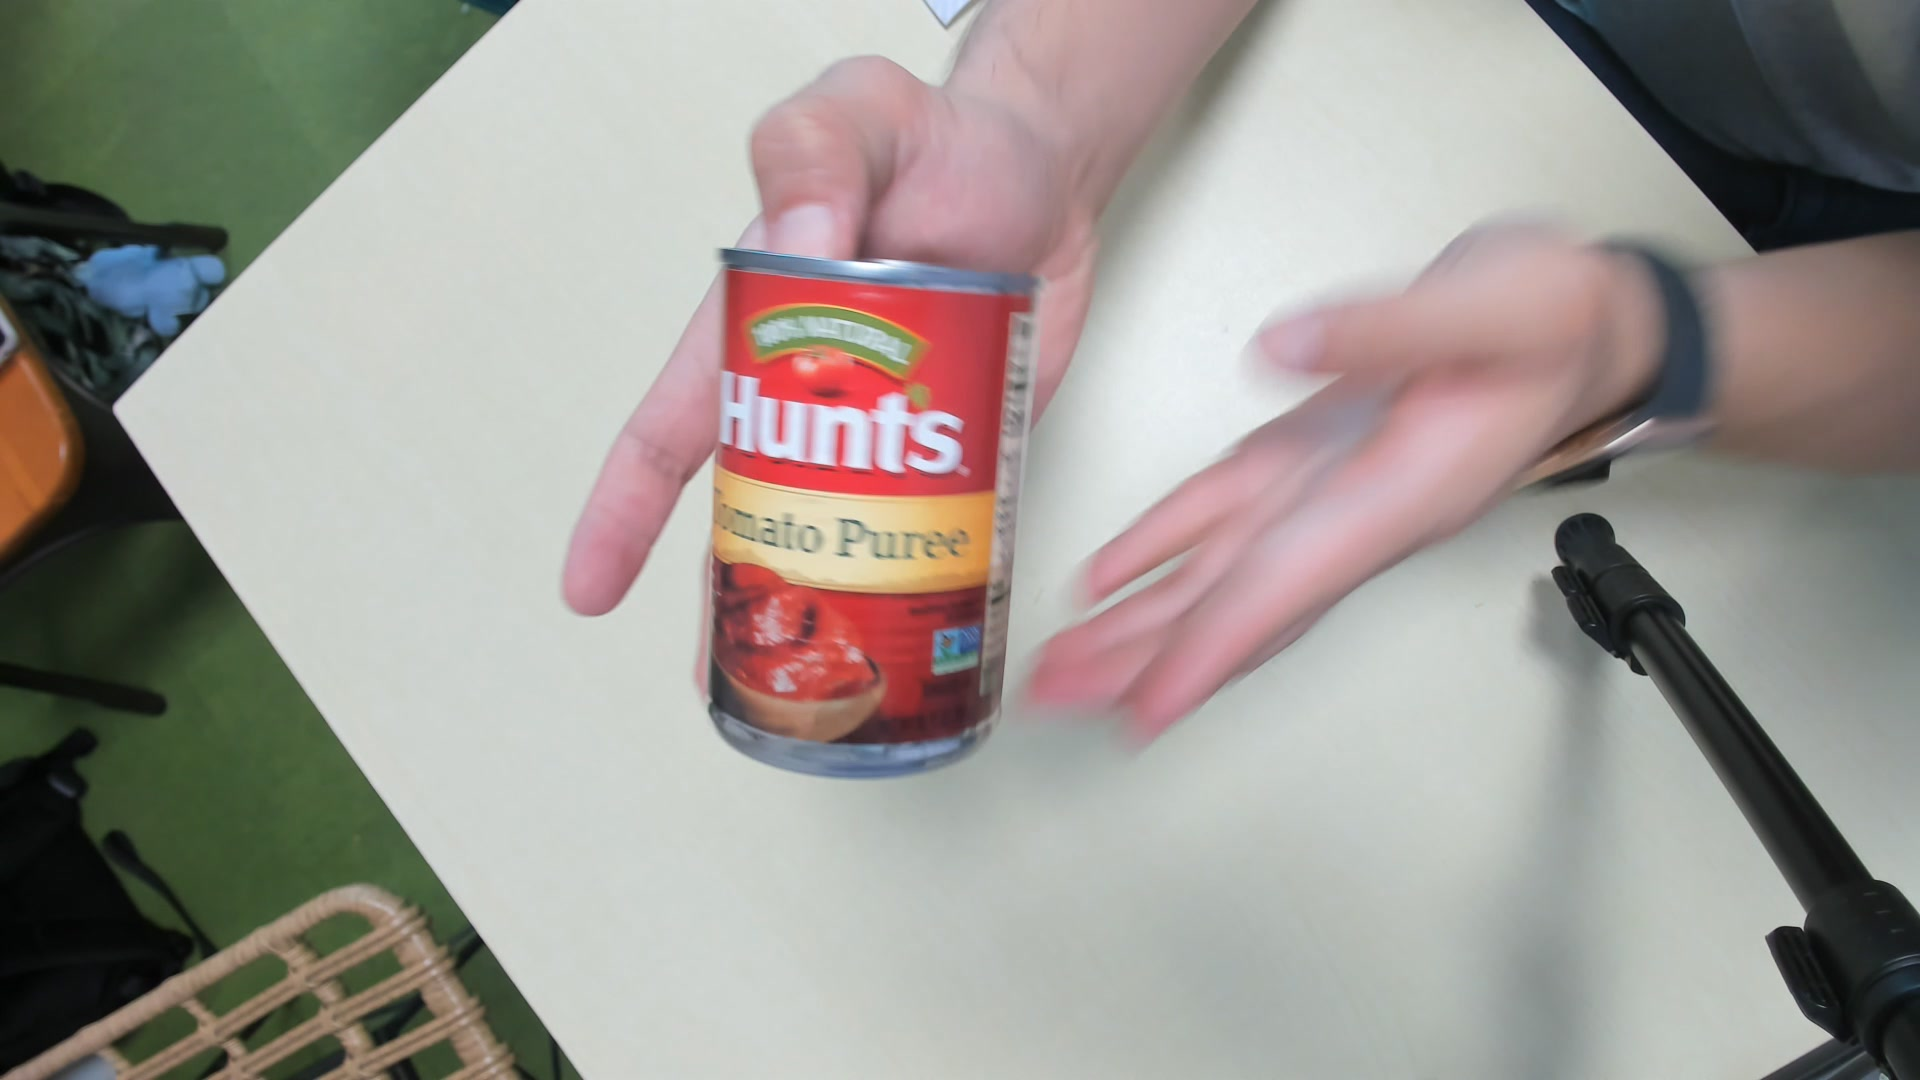OtherSauceDressing_300-399g_NonHalal_NonHealthy: (698, 244, 1030, 771)
